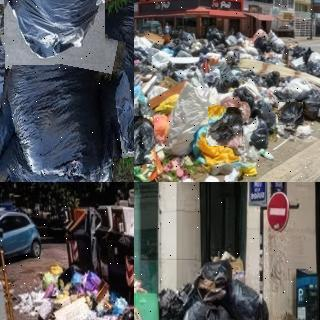Garbage: (0, 26, 119, 182), (3, 0, 105, 65), (97, 0, 134, 157), (165, 79, 215, 152), (0, 1, 24, 138), (224, 279, 270, 320), (207, 106, 244, 147), (134, 115, 155, 165), (180, 300, 232, 320), (219, 95, 250, 122), (296, 88, 320, 117), (278, 102, 303, 125)
